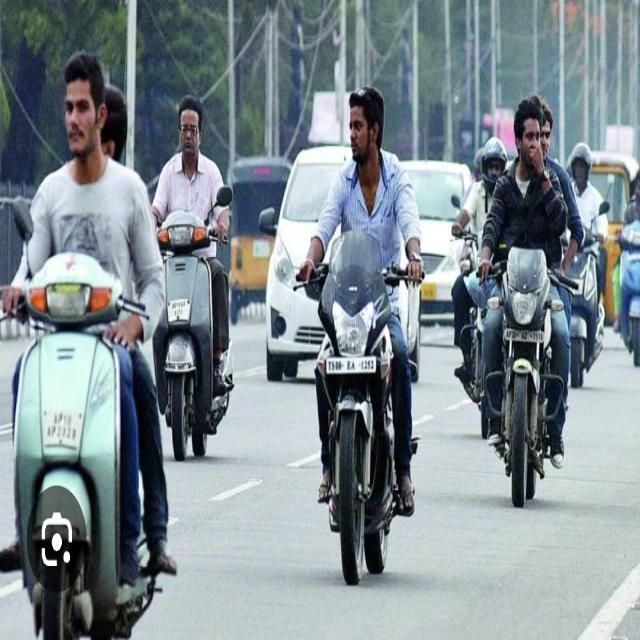WithHelmet: (451, 135, 508, 384), (566, 142, 609, 352)
WithoutHelmet: (0, 49, 165, 588), (295, 87, 425, 516), (100, 86, 177, 577), (477, 97, 573, 470), (151, 96, 229, 397), (539, 93, 583, 273), (615, 178, 640, 349)
